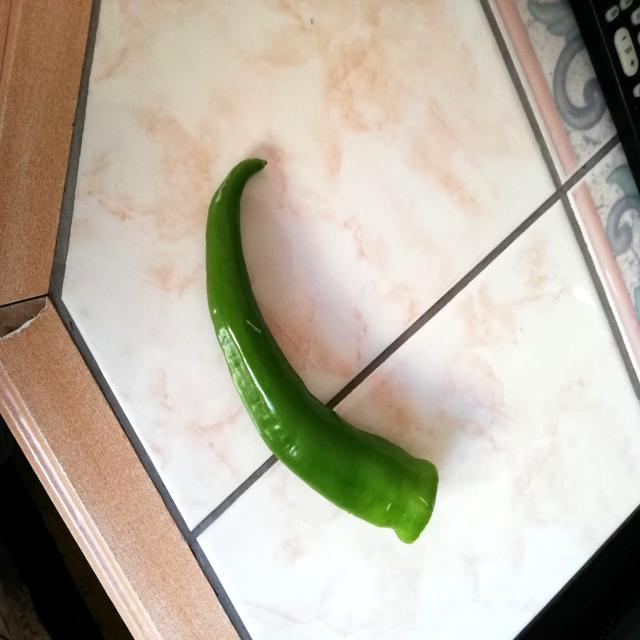green pepper: (202, 153, 441, 548)
